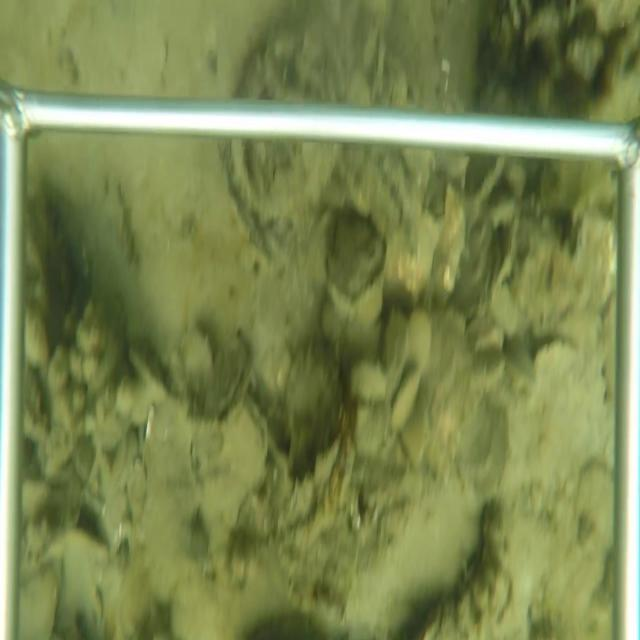Oyster-Closed: (370, 31, 386, 99)
Oyster-Open: (215, 385, 270, 491)
